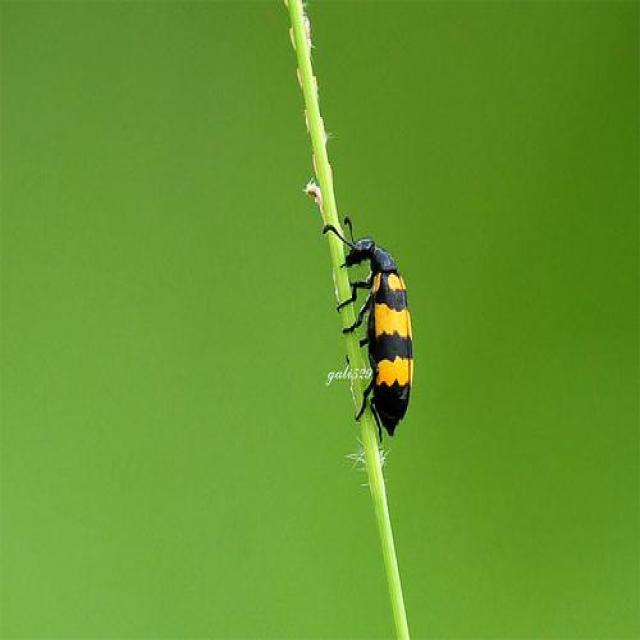BlisterBeetle-Adult-: (325, 212, 414, 448)
